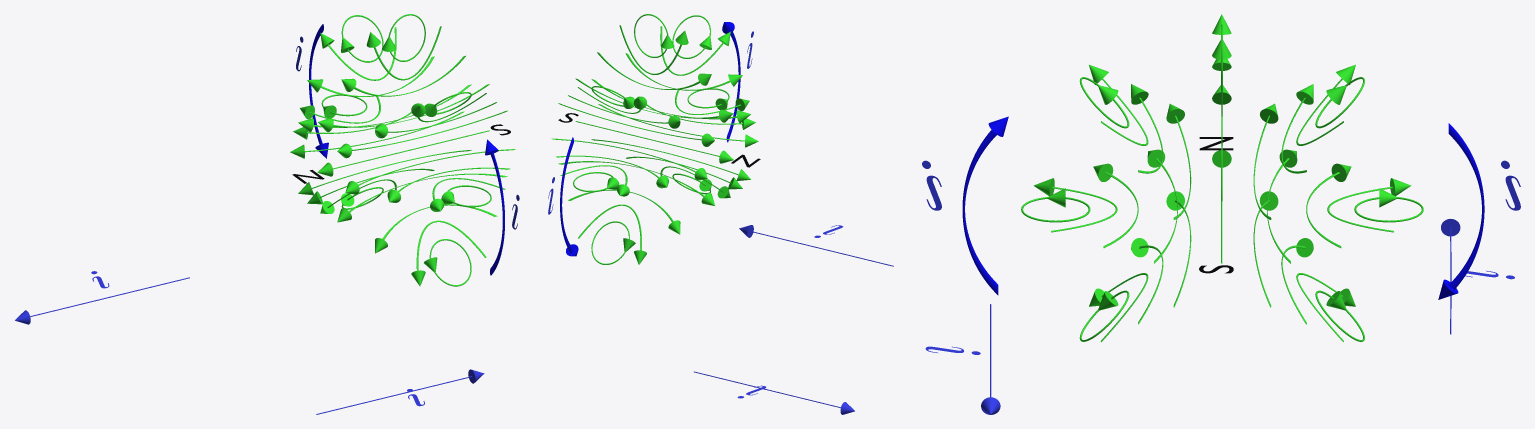
File: exp2 lineas corriente 2.glb
3 views of the same model, side by side, from view 1: azimuth 30°, elevation 25°; view 2: azimuth 150°, elevation 25°; view 3: azimuth 270°, elevation 25° (orthographic). The views are drawn at different scales.
Parts seen in each view (by area): view 1: no part large enough to name; view 2: NurbsCurve.023, NurbsCurve.022; view 3: NurbsCurve.023, NurbsCurve.022.
Part boxes in pixels (left/top/right/bottom): NurbsCurve.023: left=560, top=137, right=573, bottom=252; NurbsCurve.022: left=726, top=32, right=740, bottom=142; NurbsCurve.023: left=1448, top=123, right=1484, bottom=289; NurbsCurve.022: left=962, top=130, right=998, bottom=295.
Size of the model in its own units: 18.95 by 13.43 by 18.12.
